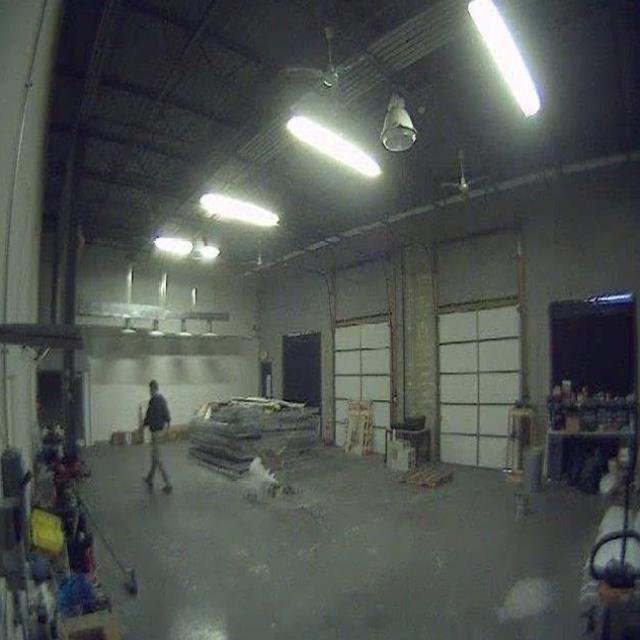fire: (244, 454, 278, 504)
